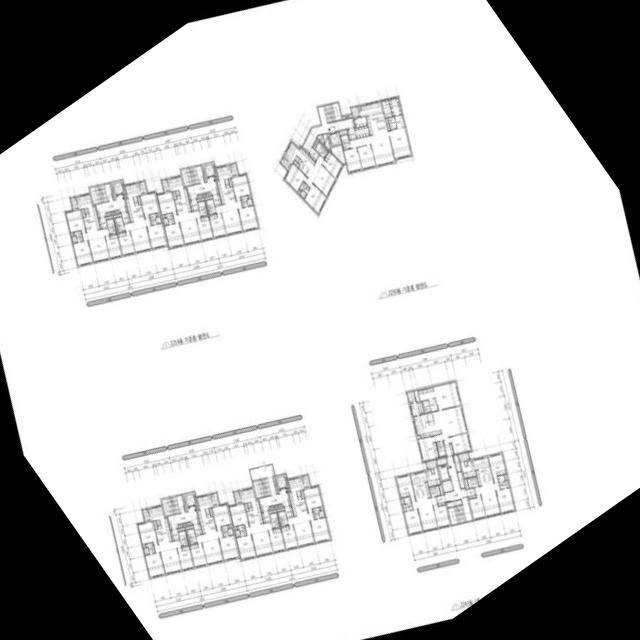background: (0, 0, 640, 640)
space_balconi: (280, 156, 290, 170), (350, 106, 359, 118)
space_bedroom: (432, 382, 459, 409), (388, 127, 411, 158), (283, 163, 307, 192), (303, 183, 326, 213), (321, 150, 342, 178), (230, 173, 250, 200), (302, 485, 322, 512), (417, 435, 438, 460), (211, 503, 230, 530), (139, 191, 158, 218), (64, 209, 85, 233), (487, 454, 505, 482), (144, 552, 164, 577), (163, 222, 183, 247), (237, 205, 257, 230), (72, 240, 92, 265), (146, 223, 166, 248), (235, 534, 255, 559), (309, 517, 329, 542), (218, 535, 238, 560), (396, 475, 415, 501), (136, 521, 157, 544), (156, 191, 176, 215), (228, 503, 248, 527), (448, 432, 470, 453), (403, 508, 421, 533), (357, 144, 375, 169), (343, 147, 361, 172), (495, 487, 513, 512), (267, 527, 284, 552), (104, 233, 121, 258), (189, 542, 206, 567), (195, 216, 212, 240), (117, 231, 134, 255), (208, 213, 225, 237), (280, 525, 297, 549), (176, 545, 193, 569), (468, 494, 485, 518), (432, 504, 449, 526)
space_dressroom: (388, 97, 401, 116), (417, 387, 434, 400)
space_elevator: (327, 131, 340, 146), (203, 162, 216, 177), (275, 474, 288, 489), (437, 464, 449, 480), (112, 180, 124, 195), (184, 492, 196, 507)
space_elevator_hall: (249, 464, 289, 510), (302, 117, 353, 152), (443, 456, 468, 504), (95, 183, 126, 216), (186, 165, 217, 198), (167, 495, 198, 528)
space_front: (308, 147, 319, 161), (346, 127, 356, 140), (435, 494, 444, 506), (444, 443, 453, 455), (169, 528, 178, 540), (192, 523, 201, 535), (261, 510, 270, 522), (212, 193, 221, 205), (97, 216, 106, 228), (120, 211, 129, 223), (189, 199, 198, 210), (284, 505, 292, 517), (466, 488, 475, 498)
space_kitchen: (283, 141, 314, 177), (410, 468, 440, 501), (459, 457, 493, 486), (359, 100, 387, 134), (238, 487, 262, 526), (75, 193, 99, 232), (166, 175, 190, 214), (147, 505, 171, 544), (287, 476, 307, 516), (124, 182, 144, 222), (215, 164, 235, 204), (196, 494, 216, 533), (412, 411, 440, 438)
space_living_room: (349, 131, 394, 165), (305, 154, 335, 196), (434, 405, 465, 445), (172, 210, 200, 244), (244, 522, 272, 555), (81, 228, 109, 261), (153, 539, 180, 573), (123, 218, 150, 252), (214, 200, 241, 234), (286, 512, 313, 546), (195, 530, 222, 564), (411, 496, 436, 530), (474, 482, 499, 515)
space_other: (330, 145, 344, 163), (380, 99, 391, 117), (409, 401, 423, 415), (354, 125, 369, 138), (353, 116, 366, 127), (322, 133, 330, 150), (452, 454, 460, 471), (456, 471, 464, 488), (441, 480, 452, 492), (446, 499, 461, 507), (109, 182, 114, 199), (272, 476, 277, 493), (200, 165, 205, 181), (181, 494, 186, 510), (436, 457, 446, 465), (316, 134, 323, 143), (312, 138, 318, 148), (414, 390, 419, 401), (341, 114, 351, 119), (463, 478, 468, 488), (385, 118, 389, 130), (438, 484, 442, 494), (176, 526, 184, 531), (338, 129, 346, 134), (293, 160, 298, 167), (208, 508, 212, 516), (136, 196, 140, 204), (104, 215, 112, 219), (204, 195, 212, 199), (276, 507, 284, 511), (113, 213, 120, 217), (196, 197, 203, 201), (268, 509, 275, 513), (185, 525, 192, 529), (153, 520, 156, 529), (300, 490, 303, 498), (81, 209, 84, 217), (172, 191, 175, 199), (228, 178, 231, 186), (244, 503, 247, 511), (296, 189, 300, 194), (504, 474, 507, 480), (160, 214, 164, 218), (400, 498, 403, 503), (196, 194, 201, 197), (181, 522, 186, 525), (430, 469, 433, 473), (186, 521, 190, 524), (177, 523, 181, 526), (201, 193, 205, 196), (205, 192, 209, 195), (464, 462, 467, 466), (268, 506, 273, 508), (109, 211, 114, 213), (358, 105, 360, 110), (228, 524, 231, 527), (141, 544, 144, 547), (320, 506, 323, 509), (69, 232, 72, 235), (156, 212, 159, 215), (248, 194, 251, 197), (232, 526, 235, 529), (417, 435, 420, 438), (277, 504, 281, 506), (114, 210, 118, 212), (105, 212, 109, 214), (273, 505, 277, 507), (123, 194, 125, 196), (214, 176, 216, 178), (195, 506, 197, 508), (286, 488, 288, 490)
space_outdoor_room: (406, 390, 415, 402), (210, 492, 218, 505), (141, 508, 149, 521), (69, 196, 77, 209), (425, 460, 436, 469), (138, 181, 146, 193), (233, 490, 240, 503), (230, 163, 237, 176), (302, 474, 309, 487), (458, 452, 468, 461), (161, 179, 168, 191)
space_staircase: (317, 102, 340, 124), (447, 503, 471, 524), (180, 166, 198, 186), (161, 496, 179, 515), (89, 184, 107, 203), (252, 478, 270, 497)
space_toilet: (387, 114, 404, 129), (421, 398, 437, 412), (314, 142, 326, 158), (298, 181, 309, 198), (435, 440, 445, 456), (114, 216, 124, 232), (205, 198, 215, 214), (277, 510, 287, 526), (497, 474, 508, 488), (105, 218, 115, 233), (340, 134, 350, 149), (186, 528, 196, 543), (177, 530, 187, 545), (402, 496, 412, 511), (466, 476, 478, 488), (197, 200, 206, 216), (269, 512, 278, 527), (428, 485, 439, 496), (72, 230, 82, 241), (144, 542, 154, 553), (164, 212, 173, 224), (236, 524, 245, 535), (239, 195, 247, 207), (220, 525, 228, 536), (148, 213, 156, 224), (311, 507, 319, 518), (162, 217, 168, 225), (143, 547, 149, 554), (154, 216, 160, 223), (71, 235, 77, 242), (234, 529, 240, 536), (226, 528, 232, 535), (246, 198, 251, 205), (318, 510, 323, 517)
